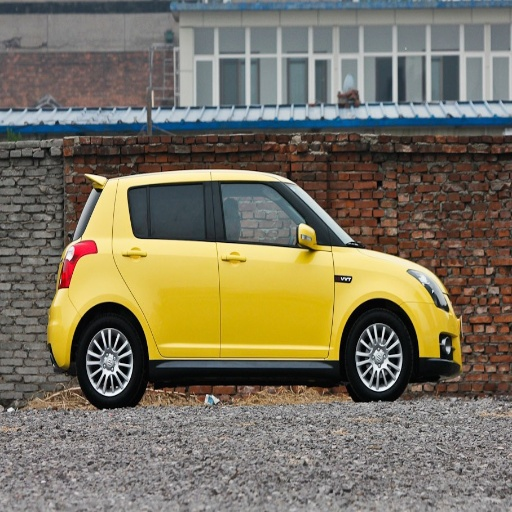back_right_door: (115, 176, 220, 355)
front_right_door: (214, 177, 334, 354)
